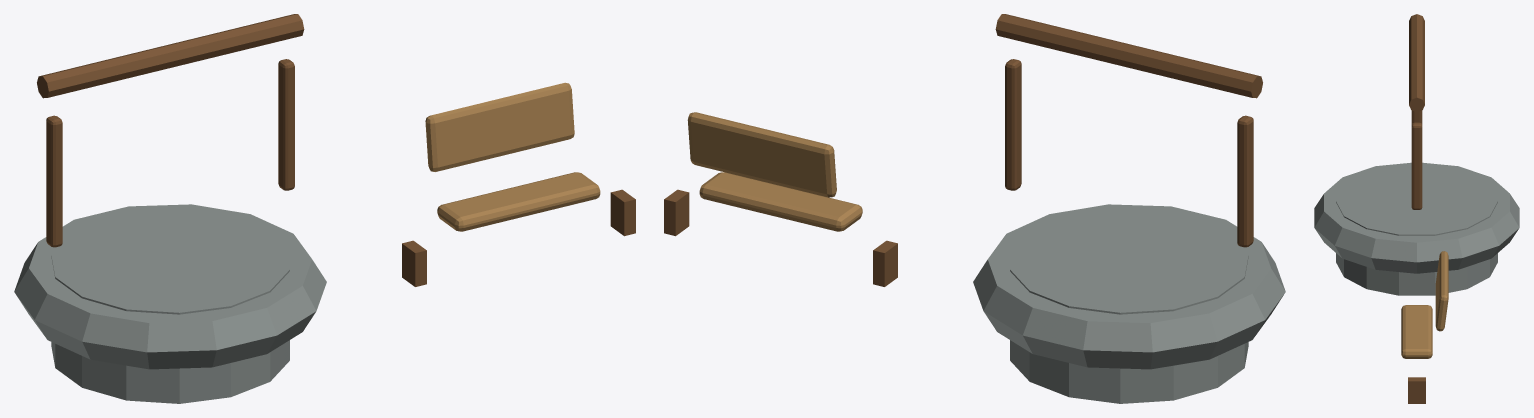
File: village_props.glb
3 renders of one model, left to right at view 1: azimuth 30°, elevation 25°; view 2: azimuth 150°, elevation 25°; view 3: azimuth 270°, elevation 25°, orthographic. The views are drawn at different scales.
Parts seen in each view (by area): view 1: WellWall, WellRim, BenchBack, WellBeam, BenchSeat, WellPost, WellPost.001, BenchLeg.001, BenchLeg; view 2: WellWall, WellRim, BenchBack, WellBeam, BenchSeat, WellPost, WellPost.001, BenchLeg.001, BenchLeg; view 3: WellWall, WellRim, BenchSeat, WellBeam, WellPost.001, BenchBack, BenchLeg.001.
Part boxes in pixels (<box>): WellWall: <box>51,211,289,403</box>; WellRim: <box>14,204,326,369</box>; BenchBack: <box>425,82,574,171</box>; WellBeam: <box>37,14,304,98</box>; BenchSeat: <box>437,172,600,231</box>; WellPost: <box>46,115,62,247</box>; WellPost.001: <box>278,59,294,190</box>; BenchLeg.001: <box>610,189,635,236</box>; BenchLeg: <box>402,240,426,286</box>; WellWall: <box>1010,211,1248,403</box>; WellRim: <box>973,204,1285,369</box>; BenchBack: <box>687,112,836,197</box>; WellBeam: <box>995,14,1262,98</box>; BenchSeat: <box>699,172,862,231</box>; WellPost: <box>1237,115,1253,247</box>; WellPost.001: <box>1005,59,1021,190</box>; BenchLeg.001: <box>664,189,689,236</box>; BenchLeg: <box>873,240,897,286</box>; WellWall: <box>1336,168,1497,295</box>; WellRim: <box>1314,162,1519,273</box>; BenchSeat: <box>1401,305,1432,358</box>; WellBeam: <box>1409,14,1424,111</box>; WellPost.001: <box>1411,122,1422,209</box>; BenchBack: <box>1435,251,1448,331</box>; BenchLeg.001: <box>1408,377,1425,403</box>.
Size of the model in its own units: 5.12 by 2.54 by 2.28.
